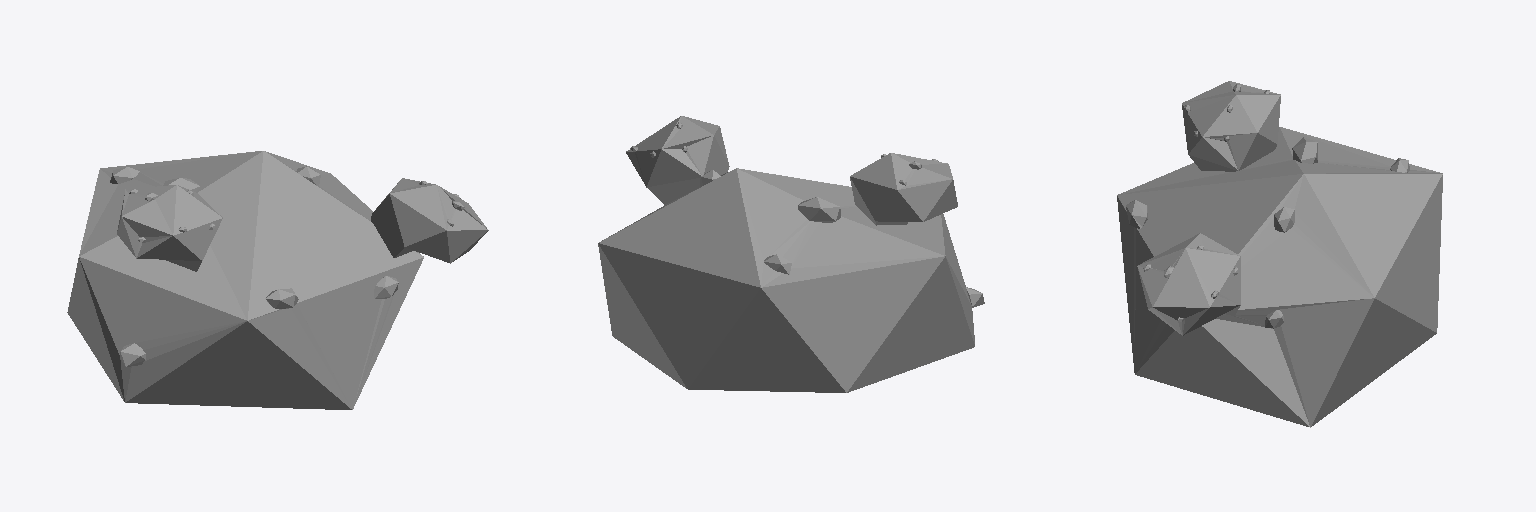
Rendered from BigBush.obj.
3 views of the same model, side by side, from view 1: azimuth 30°, elevation 25°; view 2: azimuth 150°, elevation 25°; view 3: azimuth 270°, elevation 25° (orthographic).
Parts seen in each view (by area): view 1: Icosphere.000_Icosphere.010; view 2: Icosphere.000_Icosphere.010; view 3: Icosphere.000_Icosphere.010.
Part boxes in pixels (x1,y1,x2,y2): Icosphere.000_Icosphere.010: (67,151,488,409); Icosphere.000_Icosphere.010: (598,116,984,392); Icosphere.000_Icosphere.010: (1117,81,1442,427).
Size of the model in its own units: 3.13 by 1.89 by 2.5.